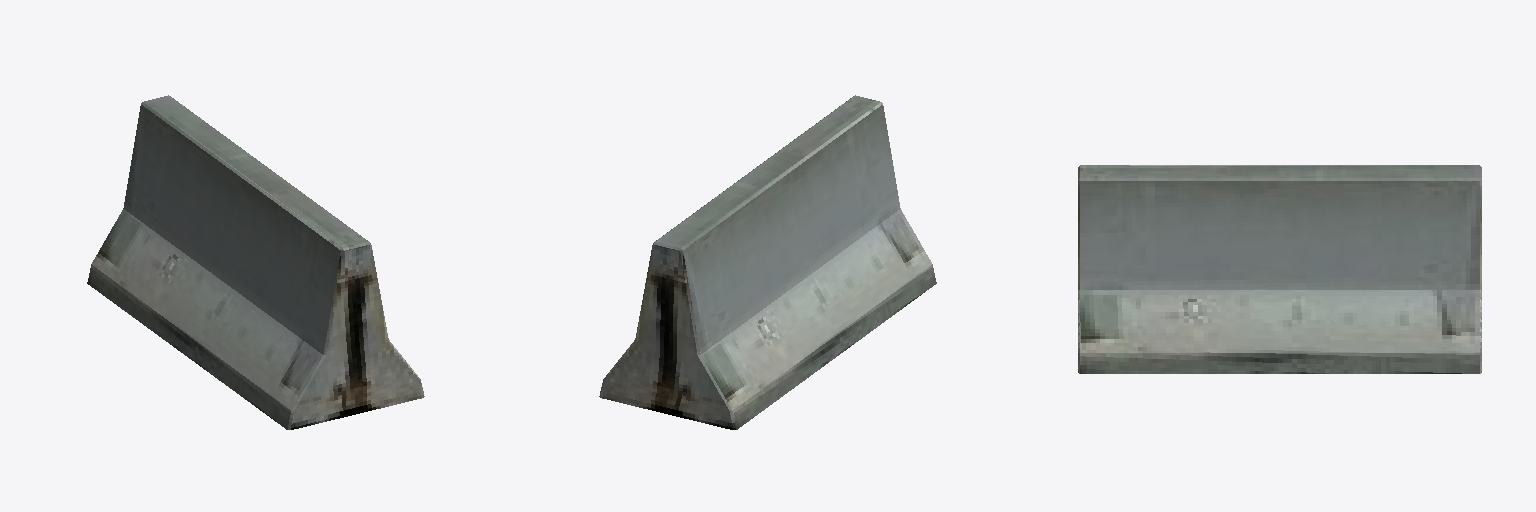
The picture shows the model from 3 angles: view 1: azimuth 30°, elevation 25°; view 2: azimuth 150°, elevation 25°; view 3: azimuth 270°, elevation 25°; orthographic projection.
Parts seen in each view (by area): view 1: Object_4; view 2: Object_4; view 3: Object_4.
Boxes of the visible parts, x1,y1,x2,y2 form: Object_4: [87, 95, 424, 429]; Object_4: [599, 95, 936, 429]; Object_4: [1078, 165, 1481, 373].
Bounding box in the file's own units: 0.78 × 0.9139 × 1.99.
1 materials, 1 textured.